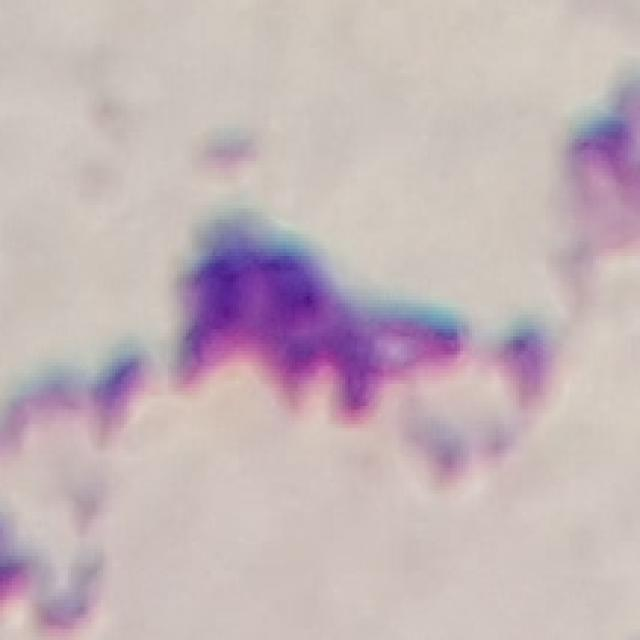non-sperm: (172, 209, 470, 422)
